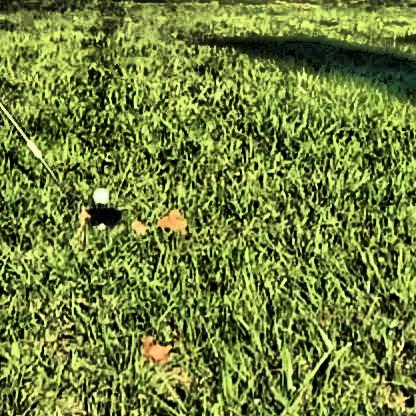golfball: (89, 183, 108, 200)
